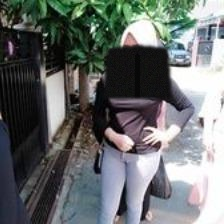Cadar_Niqab: (103, 19, 171, 98)
